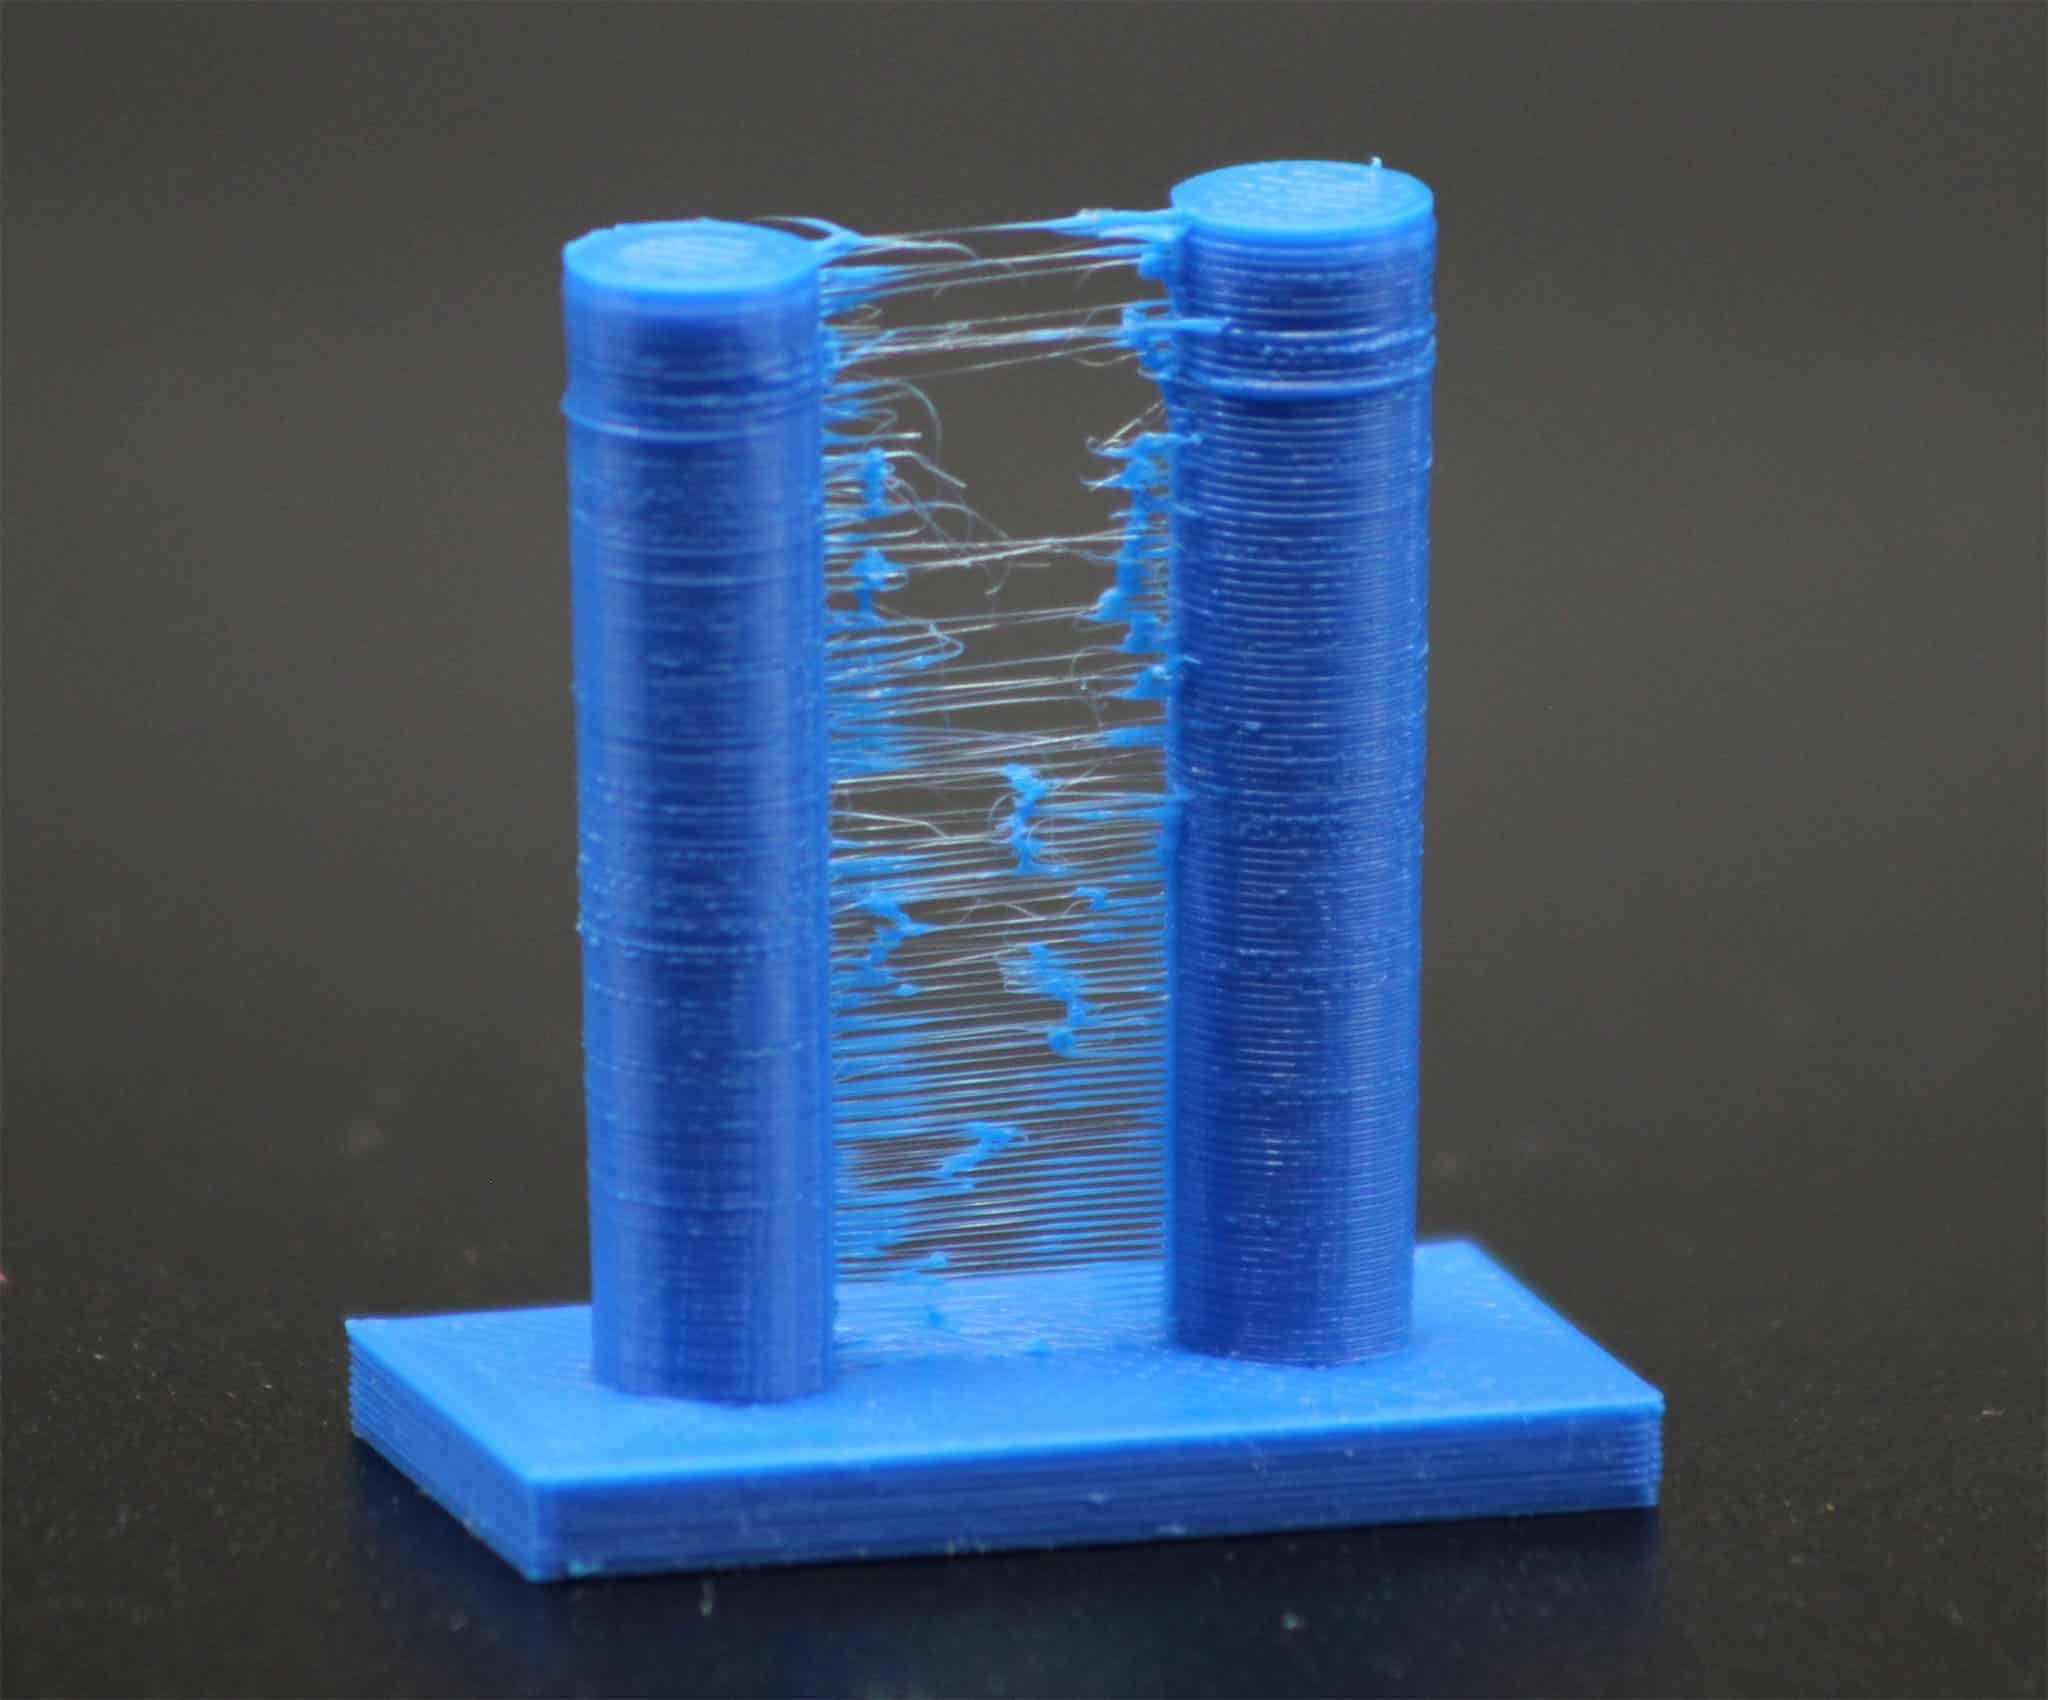Stringing_or_Oozing: (769, 201, 1286, 1382)
